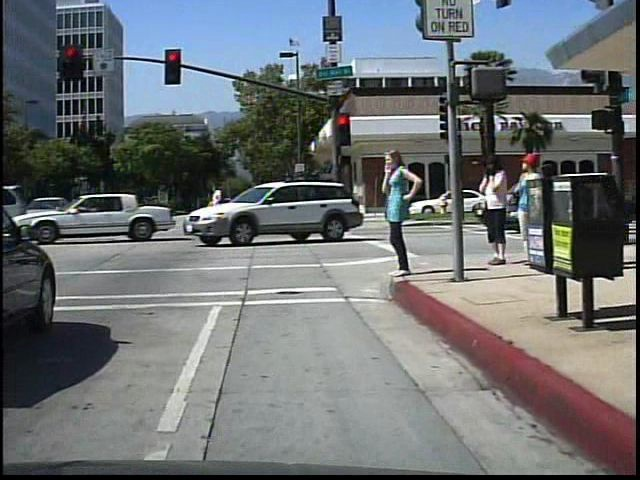person: (377, 146, 422, 284), (470, 148, 511, 266), (508, 146, 548, 254)
